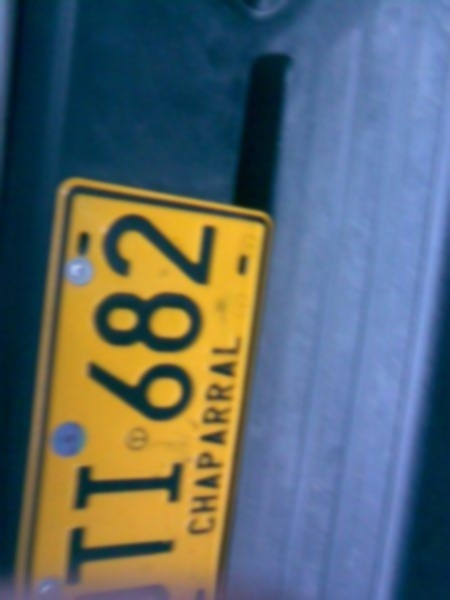placas: (11, 173, 277, 597)
